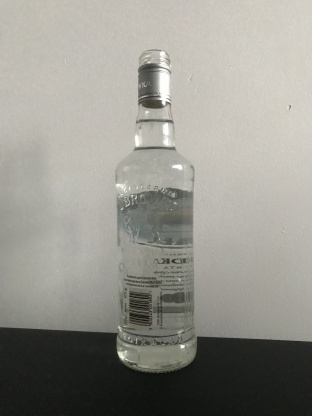nakretka: (135, 47, 173, 109)
